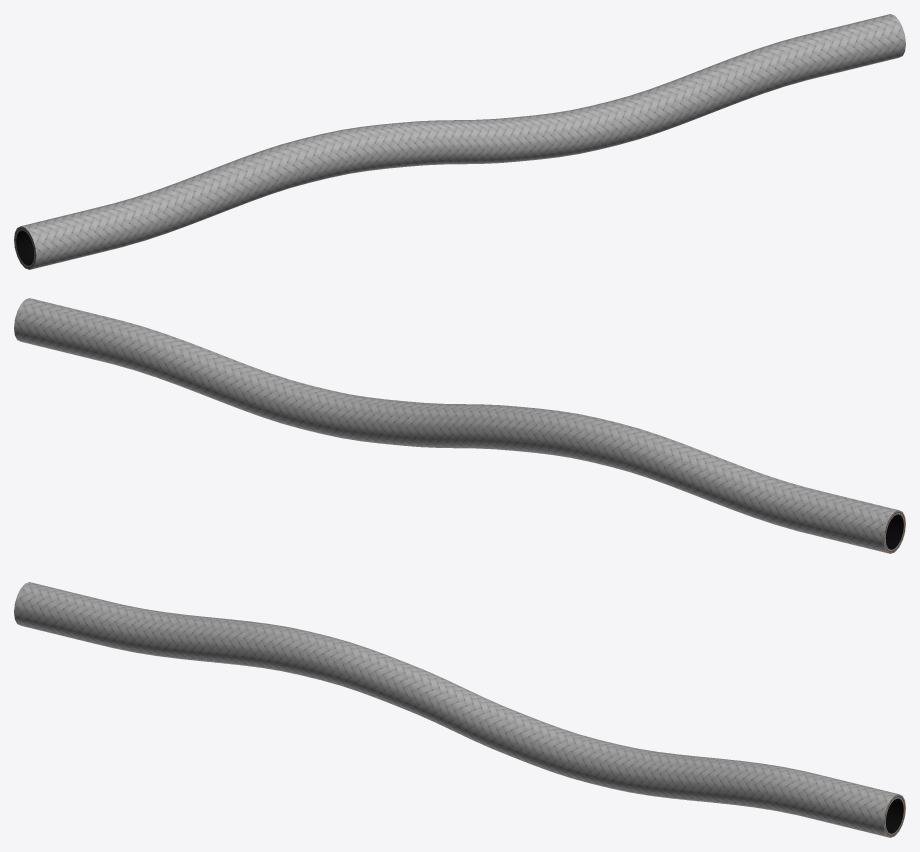
The picture shows the model from 3 angles, top to bottom: view 1: azimuth 30°, elevation 25°; view 2: azimuth 150°, elevation 25°; view 3: azimuth 330°, elevation 25°; orthographic projection.
Visible parts, largest first — view 1: Stainless_Steel_Braid-16.001; view 2: Stainless_Steel_Braid-16.001; view 3: Stainless_Steel_Braid-16.001.
Boxes of the visible parts, box(x1,y1,x2,y2) form: Stainless_Steel_Braid-16.001: box(14, 14, 905, 269); Stainless_Steel_Braid-16.001: box(14, 298, 905, 553); Stainless_Steel_Braid-16.001: box(14, 582, 905, 837).
Bounding box in the file's own units: 0.6147 × 0.0528 × 0.0274.
Materials: 2 (2 with a texture image).
